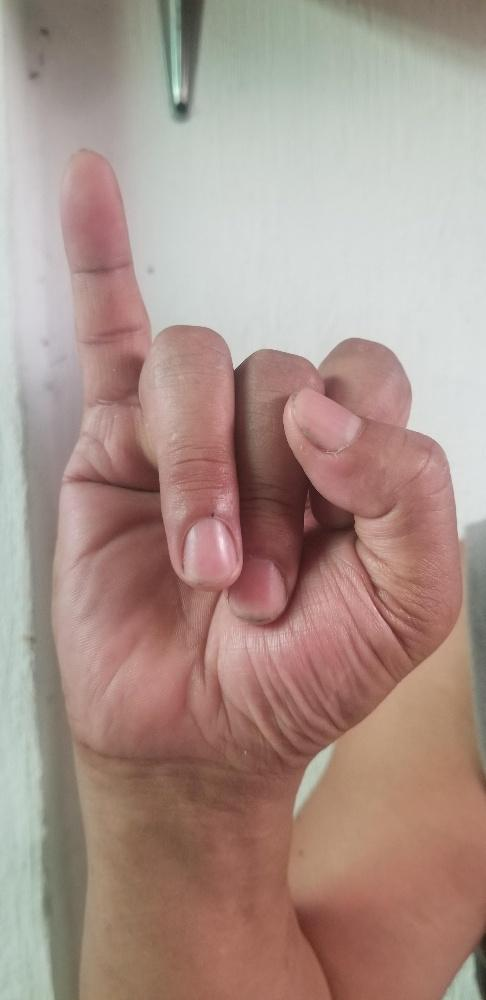i: (48, 143, 464, 758)
